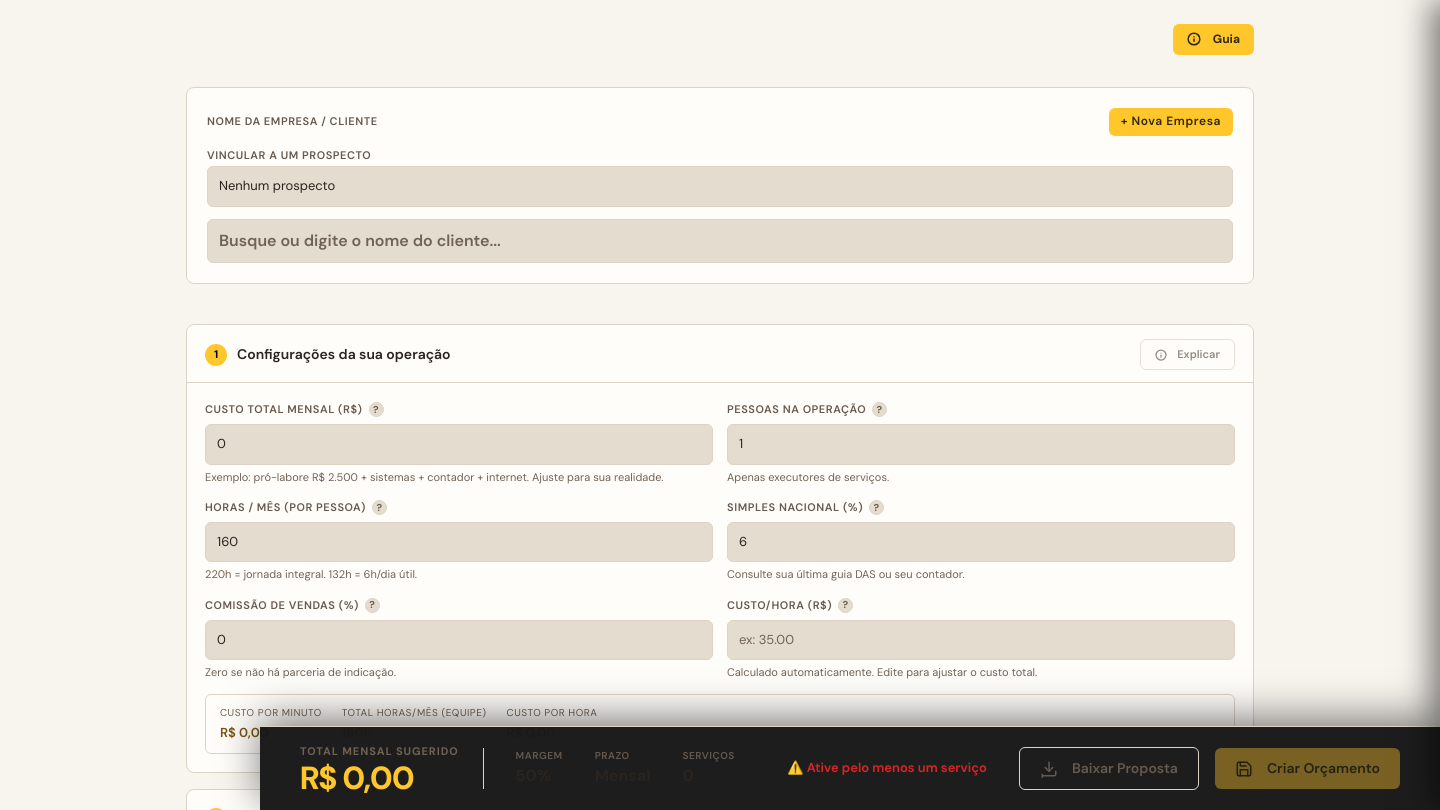
Test case: PricingCalculatorLayout — vínculo com Prospecto › mostra "Empresa não encontrada" para nome que não é cliente nem prospecto
This screenshot has width=1440, height=810.
Type "Empresa Inexistente" into the field with placeholder "Busque ou digite o nome do cliente...".
click(720, 241); type("Empresa Inexistente")  # box x1=207 y1=218 x2=1233 y2=263
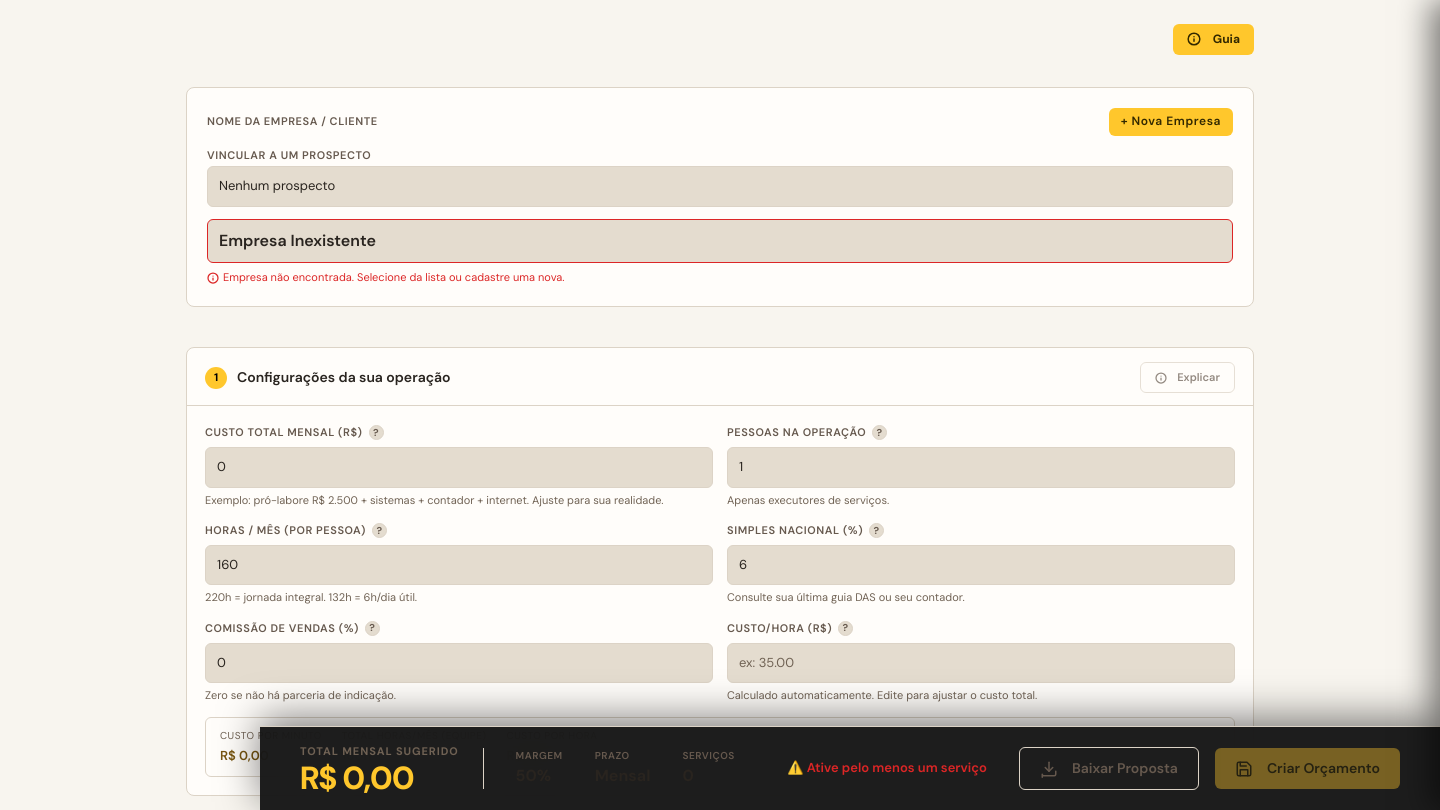
Result: the text "Empresa não encontrada" is shown at x1=223 y1=270 x2=565 y2=284
